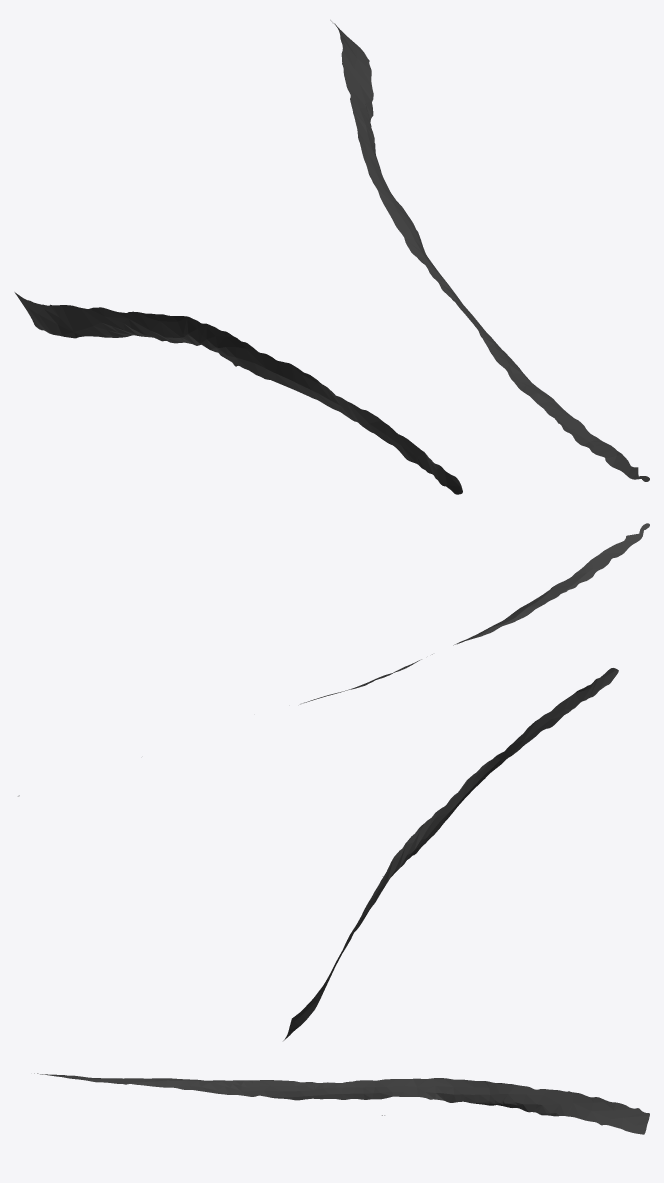
The model's file is interosseus.glb.
3 views of the same model, one above another, from view 1: azimuth 30°, elevation 25°; view 2: azimuth 150°, elevation 25°; view 3: azimuth 270°, elevation 25° (orthographic). The views are drawn at different scales.
Parts seen in each view (by area): view 1: interosseus; view 2: interosseus; view 3: interosseus.
Part boxes in pixels (x1=…): interosseus: x1=14, y1=20, x2=649, y2=494; interosseus: x1=18, y1=523, x2=649, y2=1040; interosseus: x1=34, y1=1073, x2=649, y2=1134.
Bounding box in the file's own units: 0.0972 × 0.0696 × 0.2678.
Materials: 1 (1 with a texture image).
